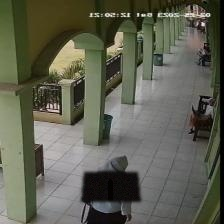Cadar_Niqab: (81, 156, 141, 201)
